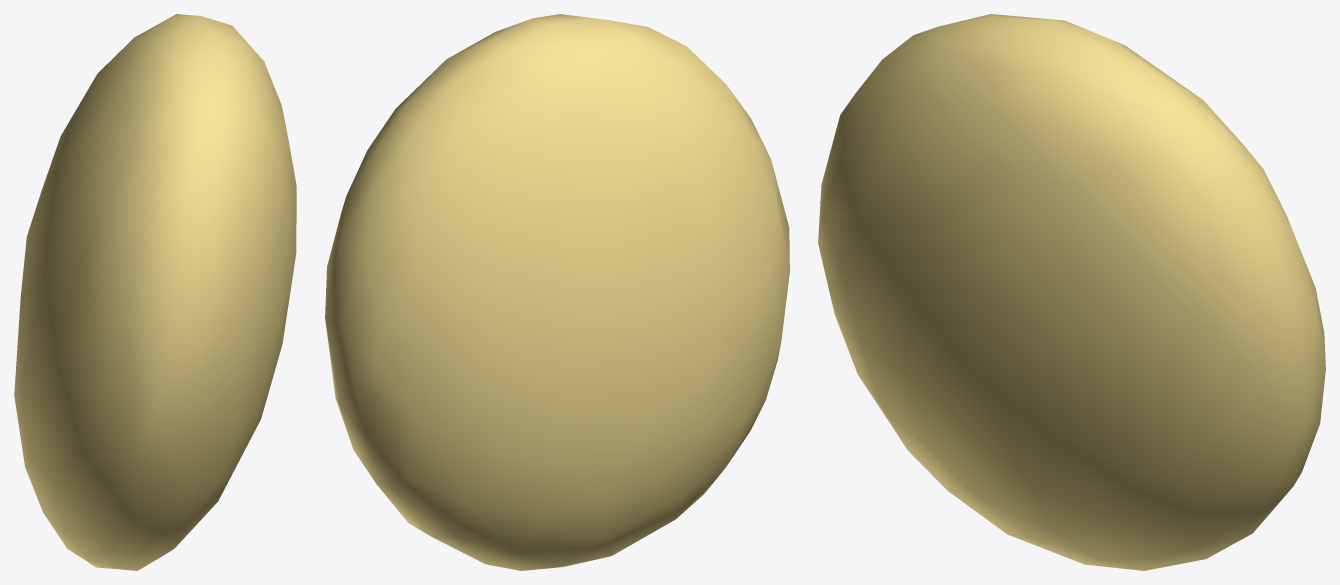
The model's file is fma54507_mm3509.glb.
The picture shows the model from 3 angles, left to right: view 1: azimuth 30°, elevation 25°; view 2: azimuth 150°, elevation 25°; view 3: azimuth 270°, elevation 25°; orthographic projection. The views are drawn at different scales.
Visible parts, largest first — view 1: FMA54507_MM3509; view 2: FMA54507_MM3509; view 3: FMA54507_MM3509.
Boxes of the visible parts, left/top/right/bottom form: FMA54507_MM3509: left=14, top=14, right=296, bottom=570; FMA54507_MM3509: left=325, top=14, right=789, bottom=570; FMA54507_MM3509: left=818, top=14, right=1325, bottom=570.
Size of the model in its own units: 0.00154 by 0.00246 by 0.00202.
